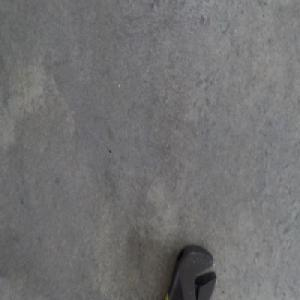AdjustableWrench: (164, 246, 217, 299)
